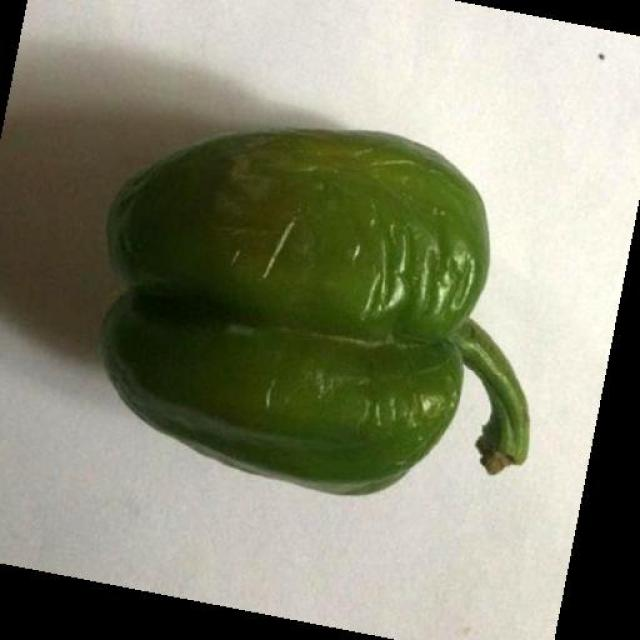Stale_Capsicum: (56, 138, 524, 512)
